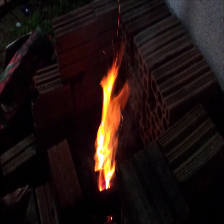fire_h: (93, 46, 131, 192)
fire_l: (109, 215, 112, 220)
